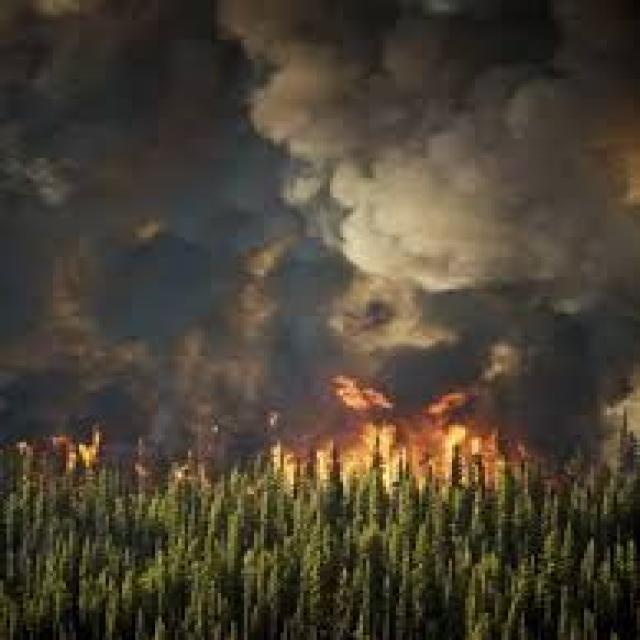Fire: (294, 370, 520, 472)
Smoke: (227, 0, 640, 316)
